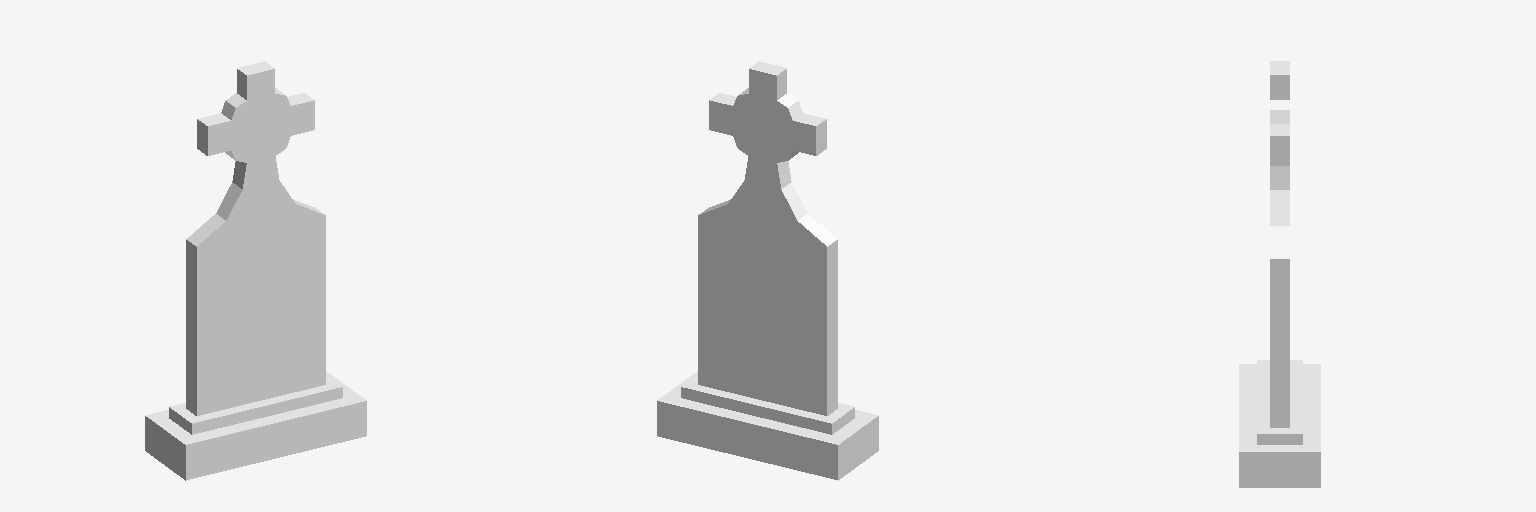
Rendered from Tombstone_3.obj.
3 views of the same model, side by side, from view 1: azimuth 30°, elevation 25°; view 2: azimuth 150°, elevation 25°; view 3: azimuth 270°, elevation 25° (orthographic).
Visible parts, largest first — view 1: Tombstone_04; view 2: Tombstone_04; view 3: Tombstone_04.
Part boxes in pixels (x1,y1,x2,y2): Tombstone_04: (145,61,366,480); Tombstone_04: (657,61,878,480); Tombstone_04: (1239,61,1320,487).
Bounding box in the file's own units: 11.43 × 22.58 × 4.42.